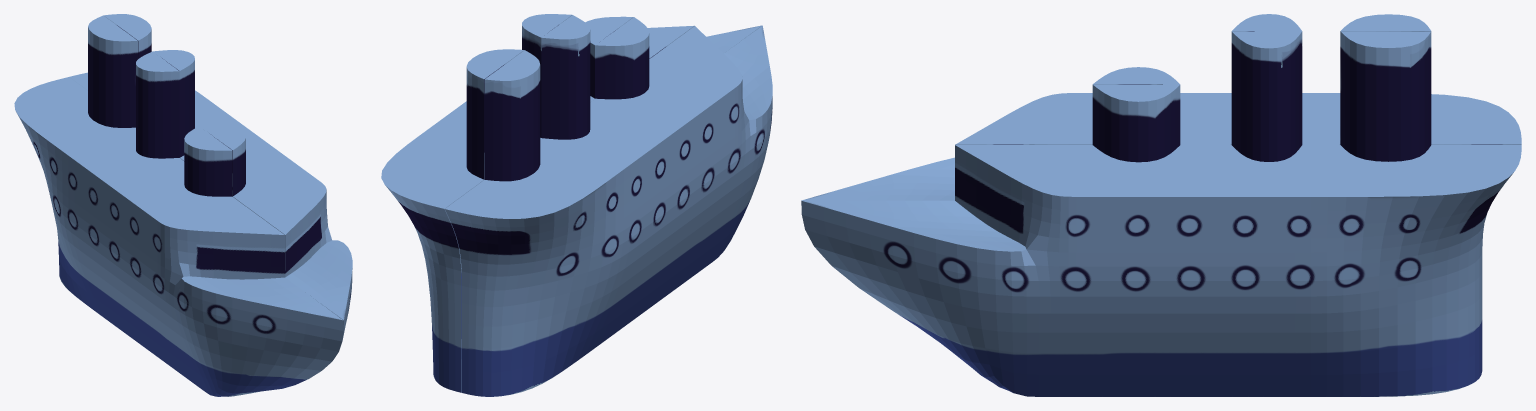
Rendered from paquebot01.glb.
The picture shows the model from 3 angles, left to right: view 1: azimuth 30°, elevation 25°; view 2: azimuth 150°, elevation 25°; view 3: azimuth 270°, elevation 25°; orthographic projection. The views are drawn at different scales.
Parts seen in each view (by area): view 1: Cube; view 2: Cube; view 3: Cube.
Part boxes in pixels (left/top/right/bottom): Cube: left=14, top=14, right=352, bottom=396; Cube: left=381, top=14, right=772, bottom=396; Cube: left=801, top=14, right=1521, bottom=396.
Bounding box in the file's own units: 2 × 3.02 × 5.86.
Materials: 1 (1 with a texture image).
